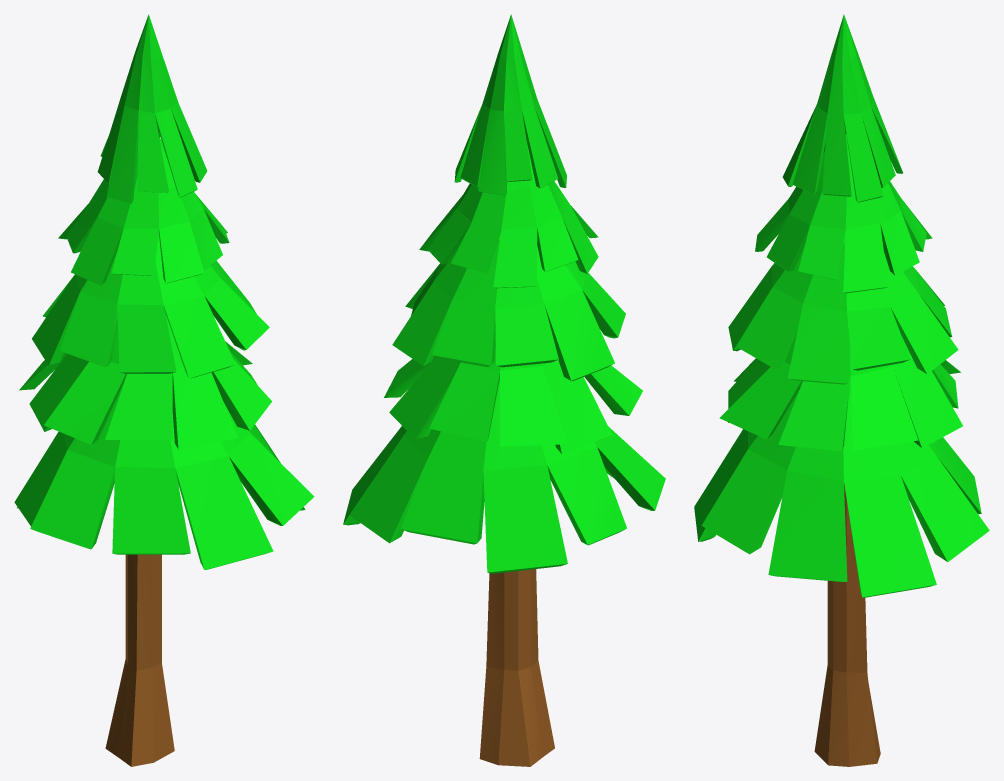
The model's file is tree_normal_1.gltf.
3 renders of one model, left to right at view 1: azimuth 30°, elevation 25°; view 2: azimuth 150°, elevation 25°; view 3: azimuth 270°, elevation 25°, orthographic.
Visible parts, largest first — view 1: lowpolytrees.207; view 2: lowpolytrees.207; view 3: lowpolytrees.207.
Part boxes in pixels (x1,y1,x2,y2): lowpolytrees.207: (14, 14, 314, 766); lowpolytrees.207: (343, 14, 665, 766); lowpolytrees.207: (694, 14, 989, 766).
Size of the model in its own units: 19.02 by 47.61 by 17.18.
